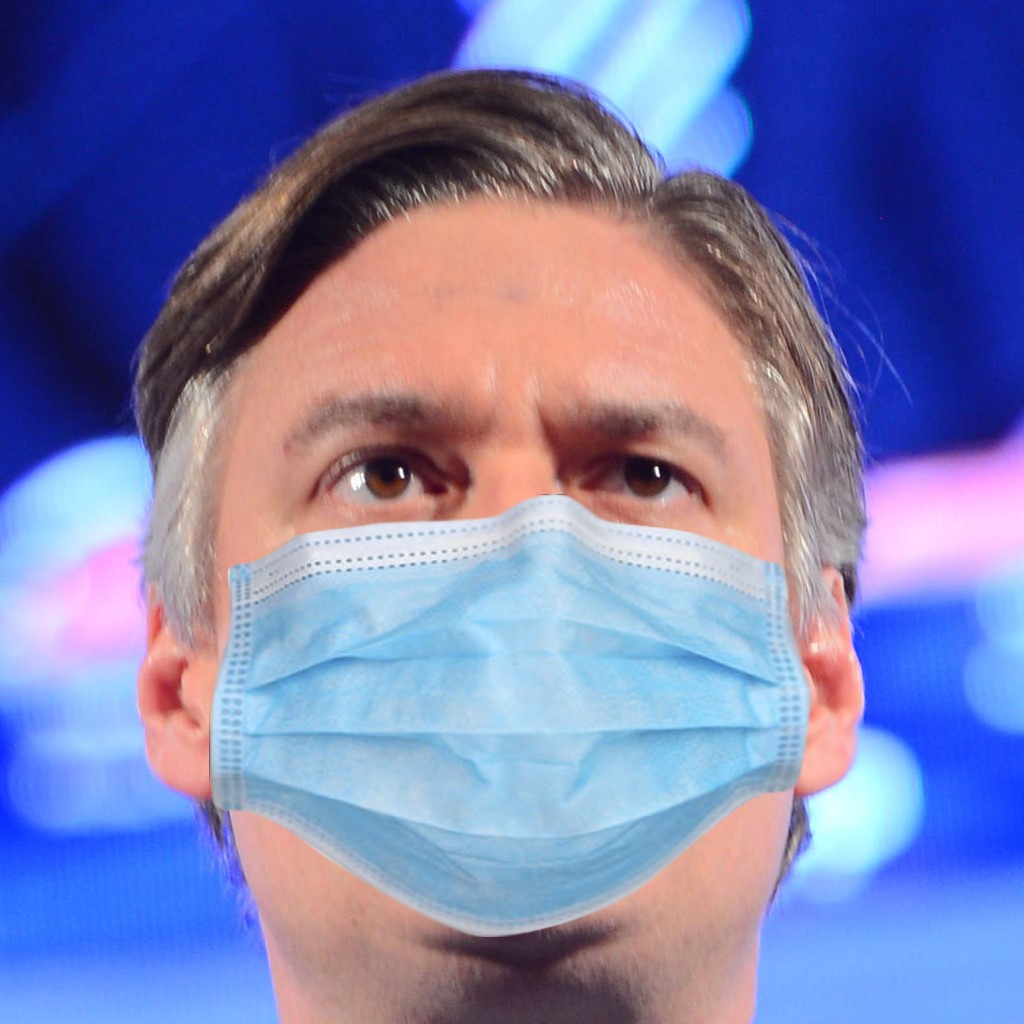con_mascara: (192, 205, 808, 923)
